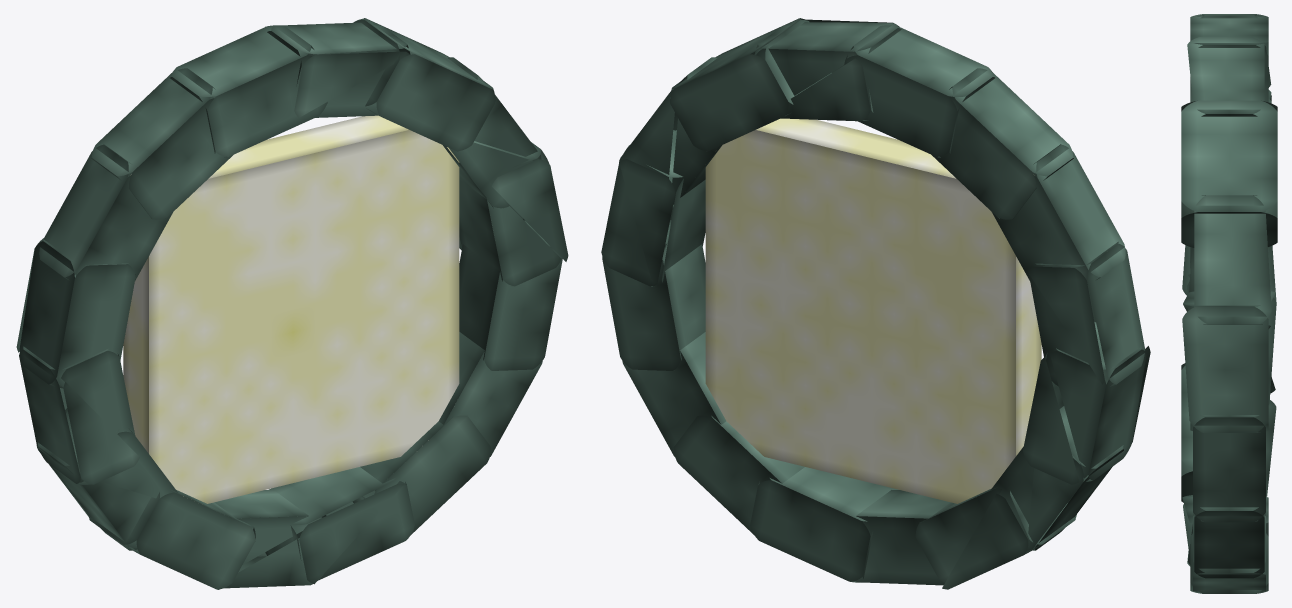
File: keepers_lens.obj
The picture shows the model from 3 angles, left to right: view 1: azimuth 30°, elevation 25°; view 2: azimuth 150°, elevation 25°; view 3: azimuth 270°, elevation 25°; orthographic projection.
Visible parts, largest first — view 1: lit, fire; view 2: lit, fire; view 3: lit.
Boxes of the visible parts, x1=… form: lit: x1=16, y1=18, x2=568, y2=589; fire: x1=123, y1=115, x2=459, y2=503; lit: x1=601, y1=18, x2=1150, y2=589; fire: x1=705, y1=118, x2=1041, y2=503; lit: x1=1181, y1=14, x2=1277, y2=593.
Bounding box in the file's own units: 0.7192 × 0.7192 × 0.1195.
